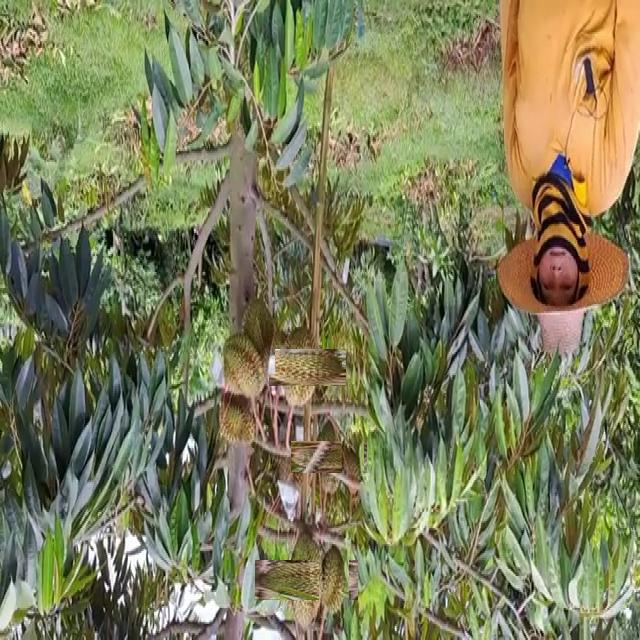durian: (270, 544, 342, 616), (269, 336, 333, 400), (220, 329, 269, 400), (302, 430, 357, 484), (238, 296, 275, 374), (320, 538, 350, 618), (215, 392, 257, 447), (341, 434, 364, 500)
